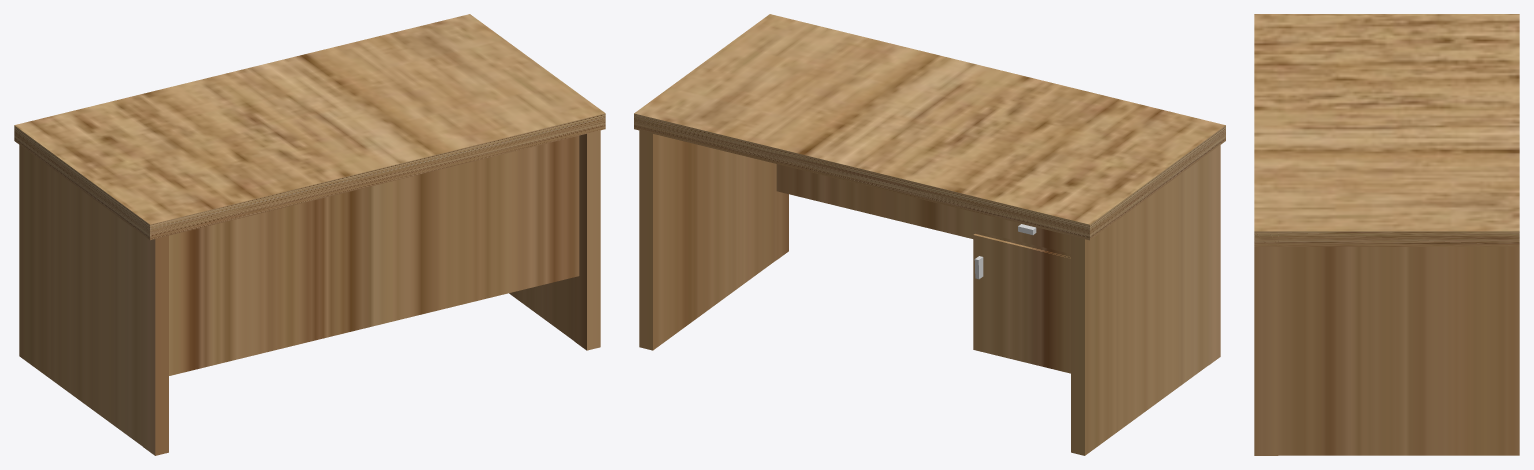
The model's file is meja3.glb.
The picture shows the model from 3 angles, left to right: view 1: azimuth 30°, elevation 25°; view 2: azimuth 150°, elevation 25°; view 3: azimuth 270°, elevation 25°; orthographic projection. The views are drawn at different scales.
Visible parts, largest first — view 1: Cube; view 2: Cube, Cube.001; view 3: Cube.
Boxes of the visible parts, <box> form: Cube: <box>14,14,605,455</box>; Cube: <box>634,14,1225,455</box>; Cube.001: <box>973,212,1070,373</box>; Cube: <box>1254,14,1519,455</box>.
Bounding box in the file's own units: 0.4791 × 0.2337 × 0.2473.
Materials: 1 (1 with a texture image).
